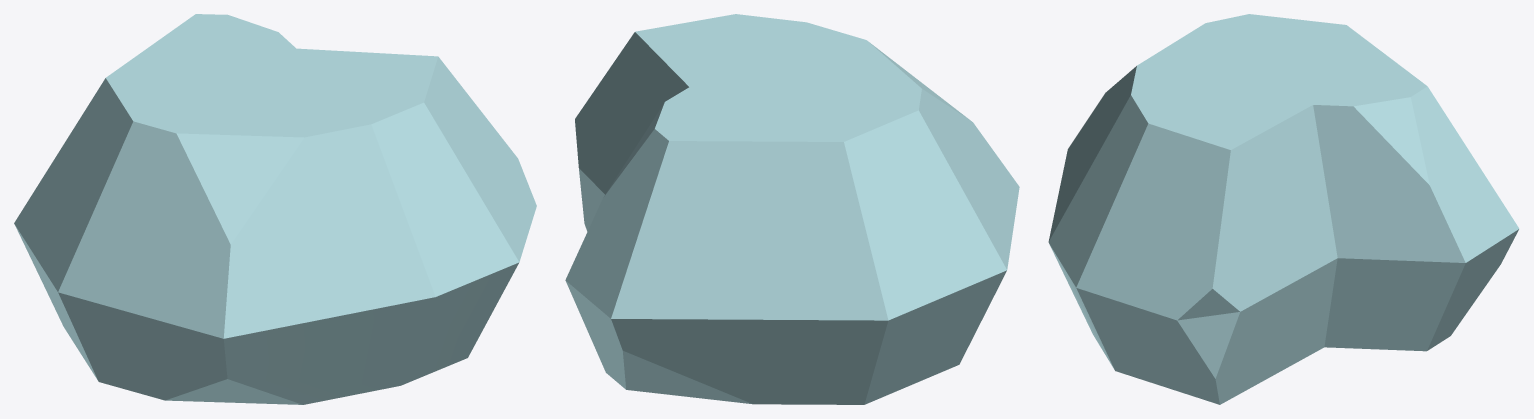
File: stone_largeD.dae
3 views of the same model, side by side, from view 1: azimuth 30°, elevation 25°; view 2: azimuth 150°, elevation 25°; view 3: azimuth 270°, elevation 25° (orthographic). The views are drawn at different scales.
Parts seen in each view (by area): view 1: stone_largeD; view 2: stone_largeD; view 3: stone_largeD.
Part boxes in pixels (x1=…): stone_largeD: x1=14, y1=14, x2=536, y2=404; stone_largeD: x1=565, y1=14, x2=1019, y2=404; stone_largeD: x1=1048, y1=14, x2=1519, y2=404.
Bounding box in the file's own units: 1.07 × 0.5683 × 1.03.
